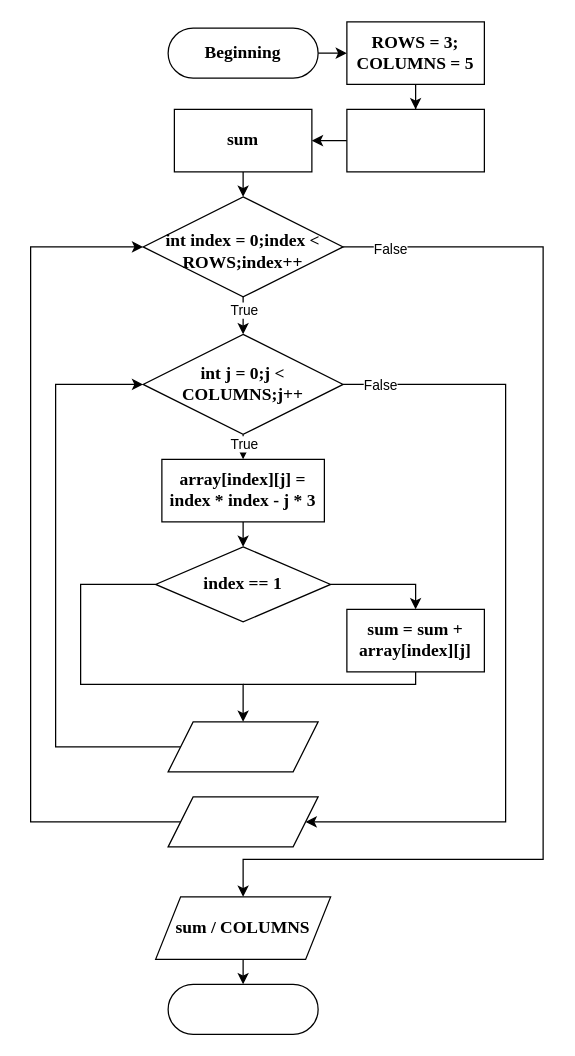
Some shapes in this 575 by 1056 pixel diagram are drawn without their labels. Each missing label, with the centre of its shape:
\n: the point at 242,821
array[index][j]: the point at 242,746
array[ROWS][COLUMNS]: the point at 415,140
End: the point at 242,1008
